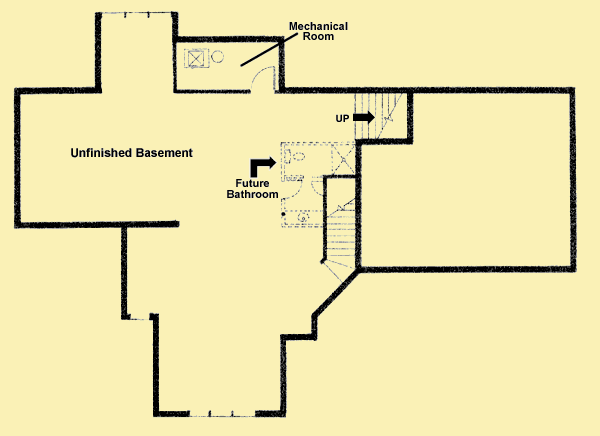door: (246, 63, 278, 95), (283, 178, 304, 202), (310, 177, 325, 196)
large_sink: (285, 147, 308, 166)
small_sink: (286, 209, 322, 224)
stairs: (324, 175, 362, 279), (350, 91, 409, 143)
